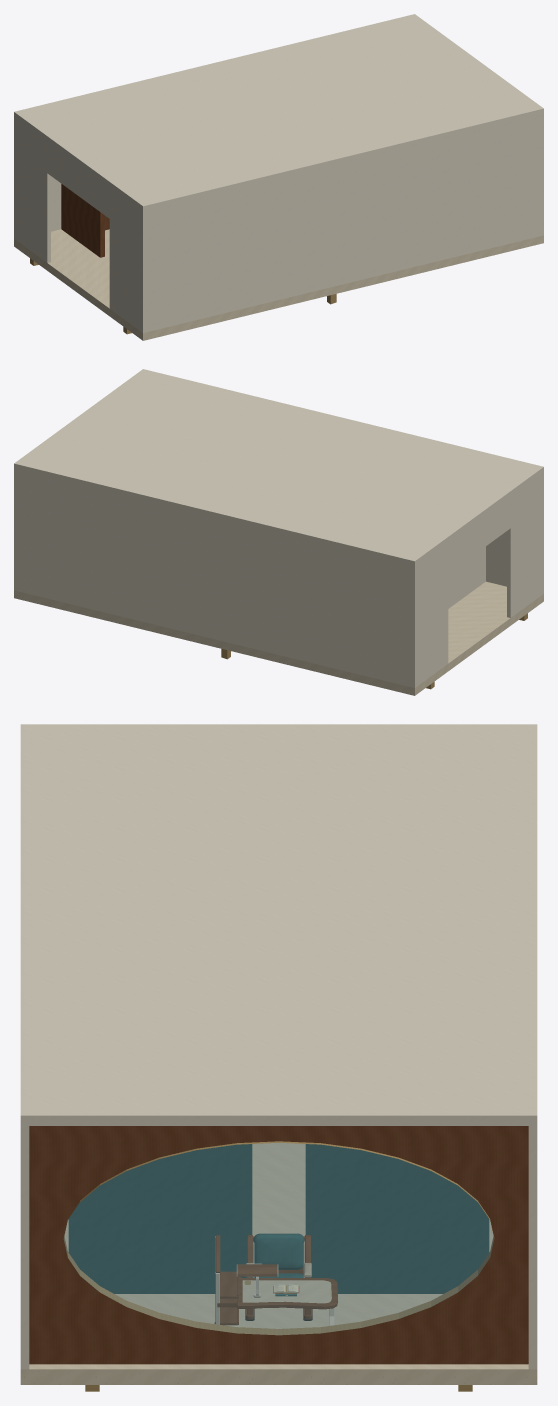
File: StarAtlasSpecialty_557.glb
The picture shows the model from 3 angles, top to bottom: view 1: azimuth 30°, elevation 25°; view 2: azimuth 150°, elevation 25°; view 3: azimuth 270°, elevation 25°; orthographic projection. The views are drawn at different scales.
Visible parts, largest first — view 1: SA557_Ceiling, SA557_SouthSide, SA557_RoomFloor, SA557_EntryShoulderNorth, SA557_EntryShoulderSouth, SA557_EntryHeader, SA557_EntryPrivacyDogleg, SA557_NorthSide; view 2: SA557_Ceiling, SA557_NorthSide, SA557_RoomFloor, SA557_EntryShoulderSouth, SA557_EntryShoulderNorth, SA557_EntryHeader, SA557_WashEntrySide, SA557_SouthSide; view 3: SA557_Ceiling, SA557_OvalAtriumGlass, SA557_OvalWindowReveal, SA557_Cocoon01_RearLiner, SA557_RoomFloor, SA557_Cocoon02_RearLiner, SA557_OvalDepthReturn, SA557_NorthSide, SA557_SouthSide, SA557_DayReadingChair__DAY_CHAIR_single_reclined_back_cushio, SA557_LibraryStudyEdge__SINGLE_inset_stone_writing_surface, SA557_LibraryStudyEdge__SINGLE_carved_walnut_writing_edge.
Boxes of the visible parts, bbox=[...] form: SA557_Ceiling: bbox=[14, 14, 543, 211]; SA557_SouthSide: bbox=[141, 114, 543, 332]; SA557_RoomFloor: bbox=[14, 229, 543, 340]; SA557_EntryShoulderNorth: bbox=[16, 119, 50, 262]; SA557_EntryShoulderSouth: bbox=[109, 187, 140, 331]; SA557_EntryHeader: bbox=[46, 141, 110, 219]; SA557_EntryPrivacyDogleg: bbox=[61, 184, 104, 257]; SA557_NorthSide: bbox=[14, 117, 61, 239]; SA557_Ceiling: bbox=[14, 369, 543, 566]; SA557_NorthSide: bbox=[14, 469, 416, 687]; SA557_RoomFloor: bbox=[14, 581, 543, 695]; SA557_EntryShoulderSouth: bbox=[507, 474, 541, 617]; SA557_EntryShoulderNorth: bbox=[417, 543, 448, 686]; SA557_EntryHeader: bbox=[447, 496, 511, 574]; SA557_WashEntrySide: bbox=[448, 546, 485, 608]; SA557_SouthSide: bbox=[486, 472, 543, 594]; SA557_Ceiling: bbox=[20, 724, 537, 1125]; SA557_OvalAtriumGlass: bbox=[64, 1143, 493, 1334]; SA557_OvalWindowReveal: bbox=[29, 1126, 528, 1364]; SA557_Cocoon01_RearLiner: bbox=[310, 1144, 484, 1293]; SA557_RoomFloor: bbox=[20, 1143, 537, 1384]; SA557_Cocoon02_RearLiner: bbox=[73, 1144, 247, 1293]; SA557_OvalDepthReturn: bbox=[63, 1141, 494, 1335]; SA557_NorthSide: bbox=[528, 1126, 537, 1369]; SA557_SouthSide: bbox=[20, 1126, 29, 1369]; SA557_DayReadingChair__DAY_CHAIR_single_reclined_back_cushio: bbox=[253, 1233, 304, 1269]; SA557_LibraryStudyEdge__SINGLE_inset_stone_writing_surface: bbox=[242, 1280, 331, 1303]; SA557_LibraryStudyEdge__SINGLE_carved_walnut_writing_edge: bbox=[237, 1278, 337, 1309].
Size of the model in its own units: 12.9 by 4.91 by 7.2.
Materials: 67 (43 with a texture image).
